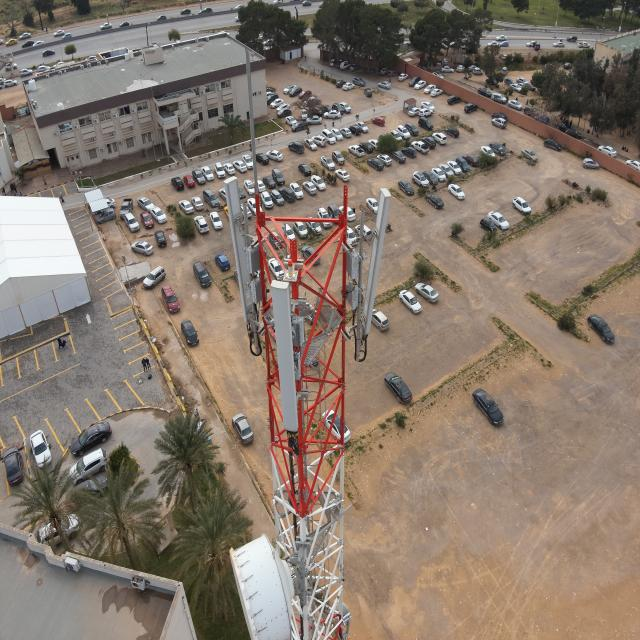Ground Based: (229, 43, 374, 638)
